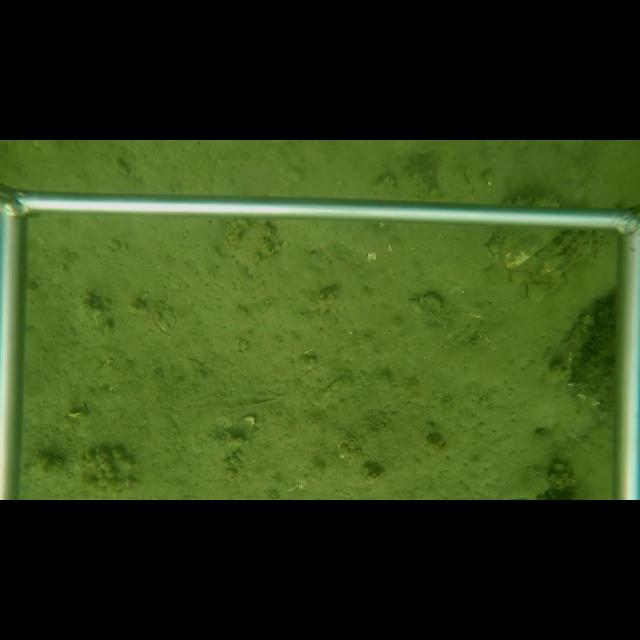Oyster-Closed: (498, 228, 566, 273)
